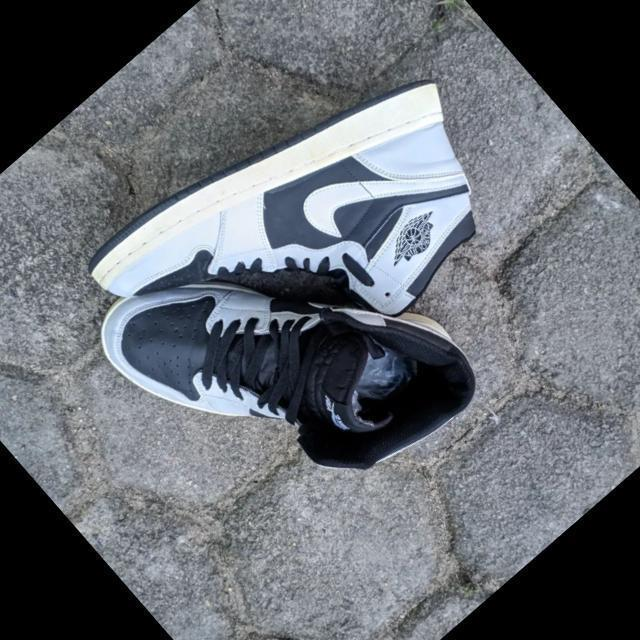nike fake jordan 1: (72, 6, 540, 458), (80, 145, 498, 566)
